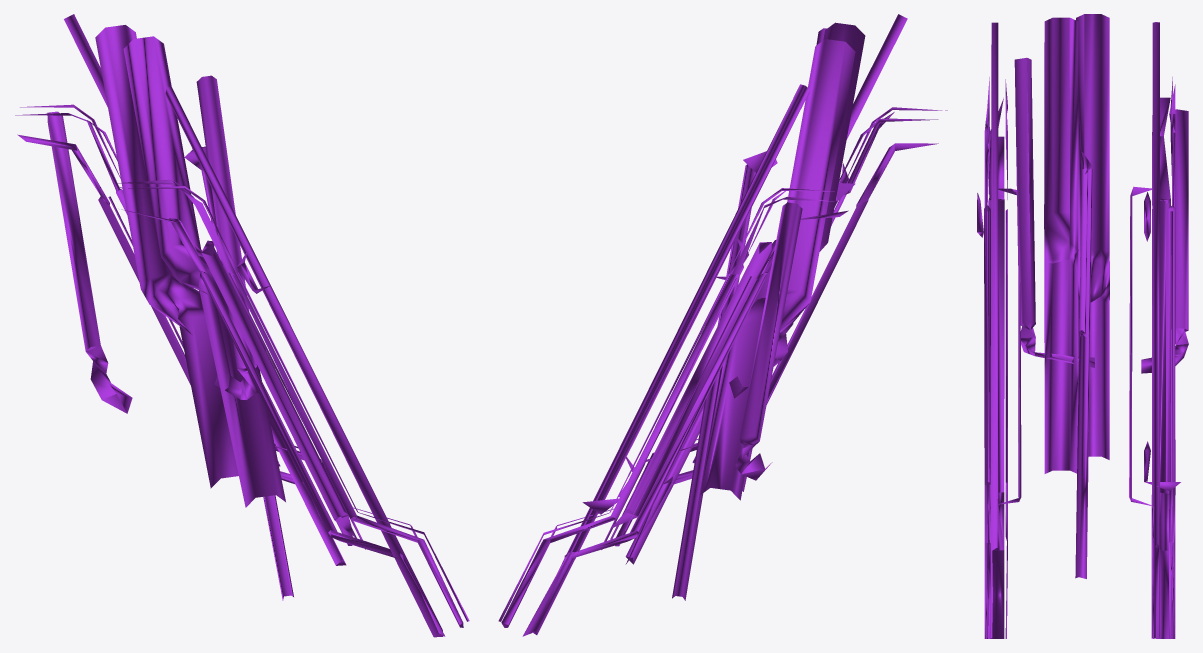
The model's file is backdrop_lpad_wallbase_a_lod4.glb.
The picture shows the model from 3 angles, left to right: view 1: azimuth 30°, elevation 25°; view 2: azimuth 150°, elevation 25°; view 3: azimuth 270°, elevation 25°; orthographic projection. The views are drawn at different scales.
Bounding box in the file's own units: 189 × 331 × 123.
